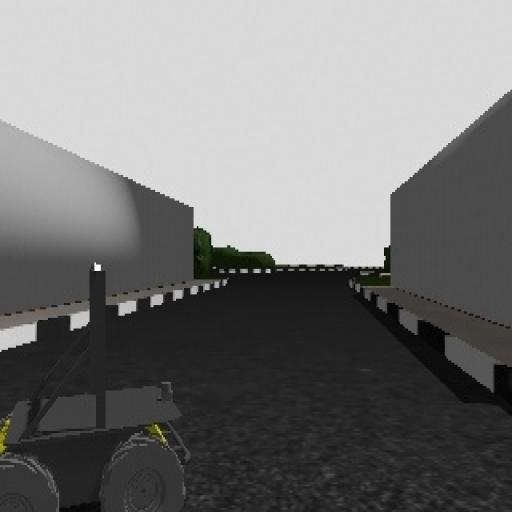huskya200: (0, 234, 201, 512)
